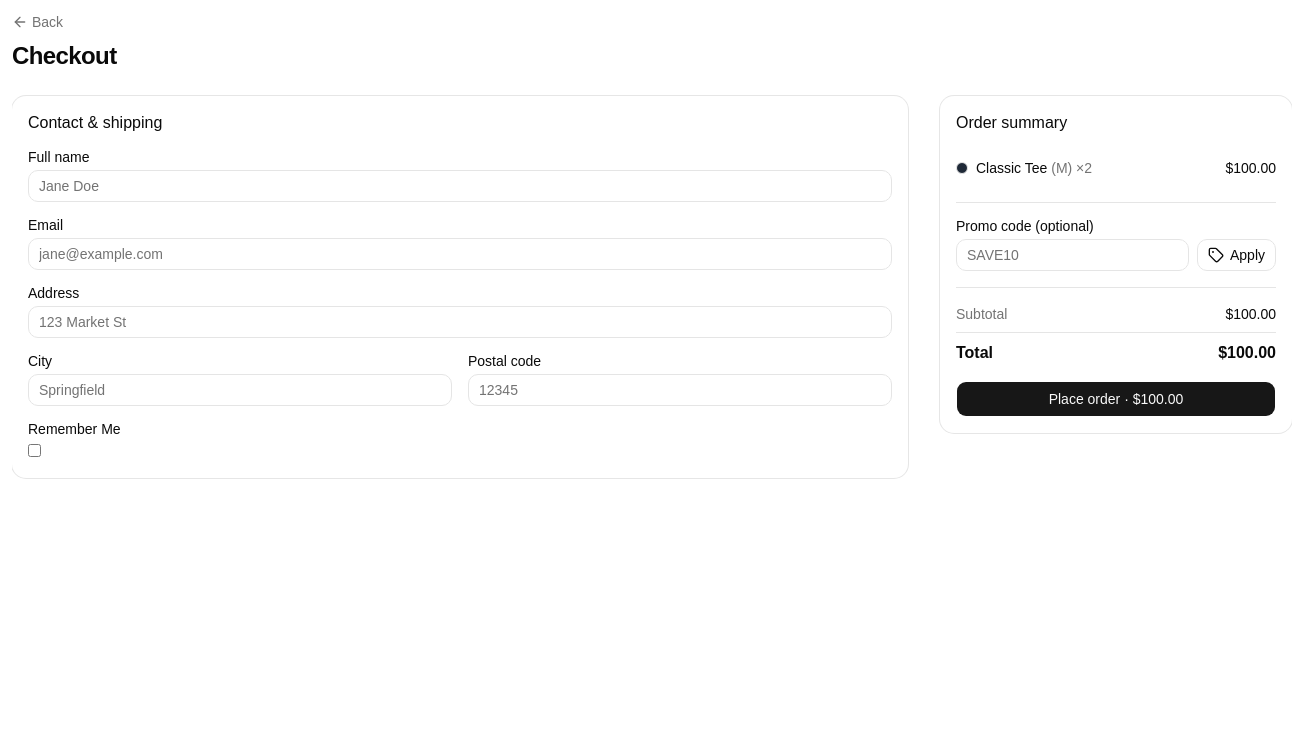
it: CheckoutPage › shows validation errors when submitting an empty form
Click the button "Place order · $100.00" at (1116, 399), box [956, 381, 1276, 417]
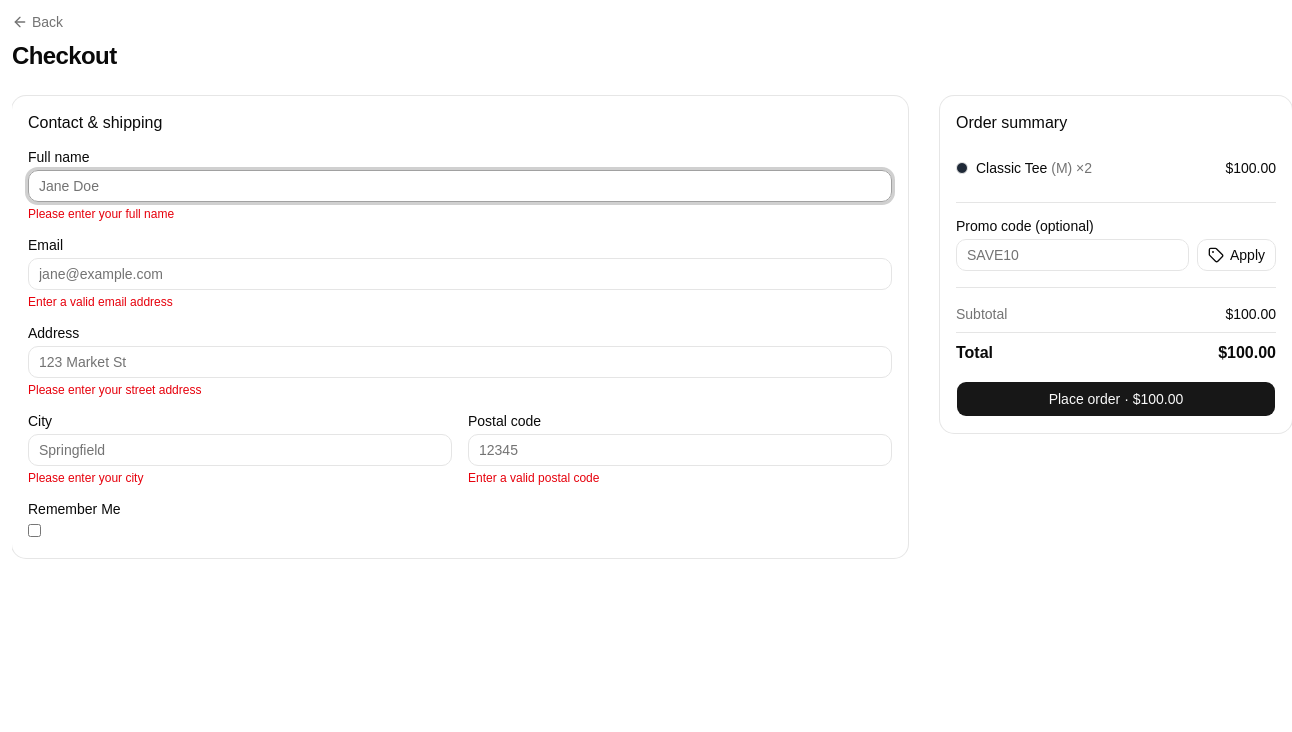
Expected: the text "Please enter your full name" is shown, [28, 207, 174, 221]
Expected: the text "Enter a valid email address" is shown, [28, 295, 173, 309]
Expected: the text "Please enter your street address" is shown, [28, 383, 201, 397]
